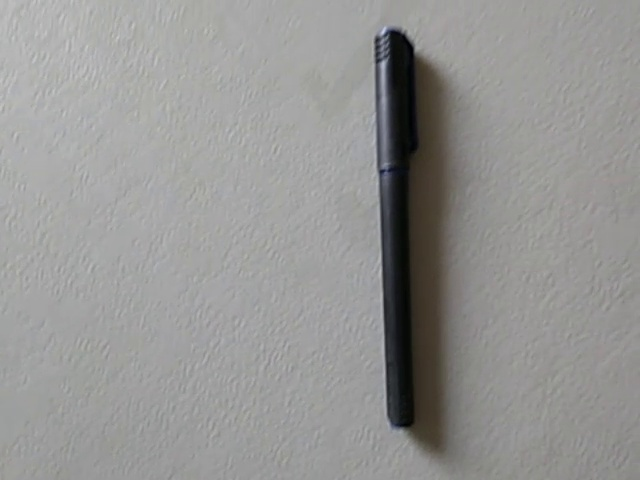Pen: (330, 17, 469, 442)
